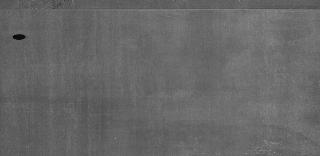punching hole: (12, 32, 28, 42)
welding line: (1, 5, 320, 15)
